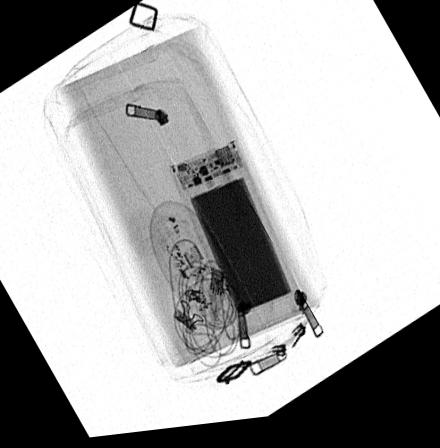Powerbank: (167, 145, 313, 350)
